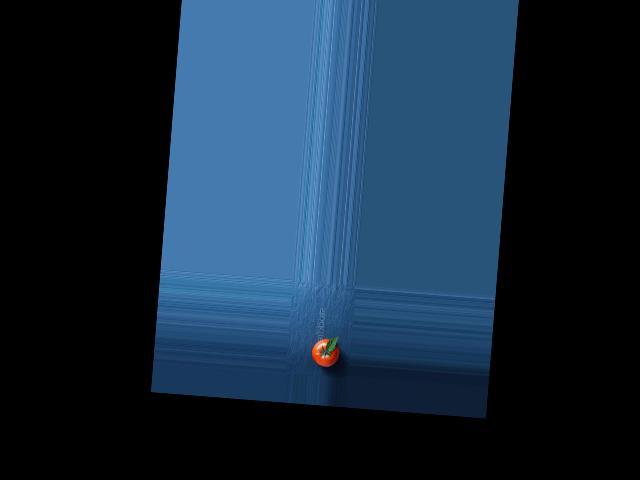tomato: (311, 337, 340, 367)
